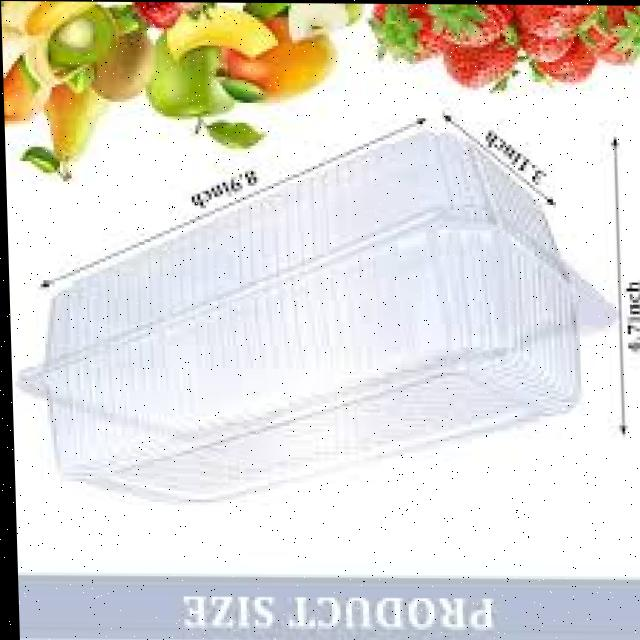disposable: (3, 117, 622, 531)
